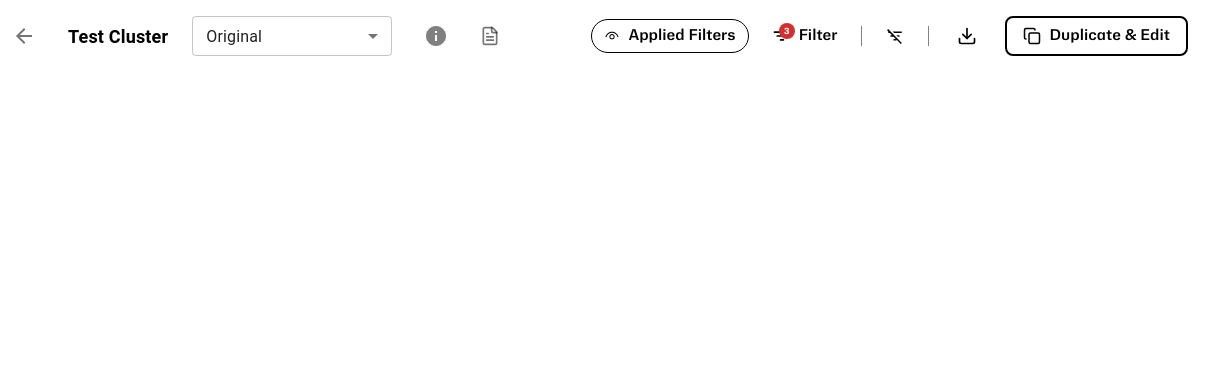
PlanogramBar › displays active filters in popper
Click the button "Applied Filters" at (670,36), box [591,19,749,53]
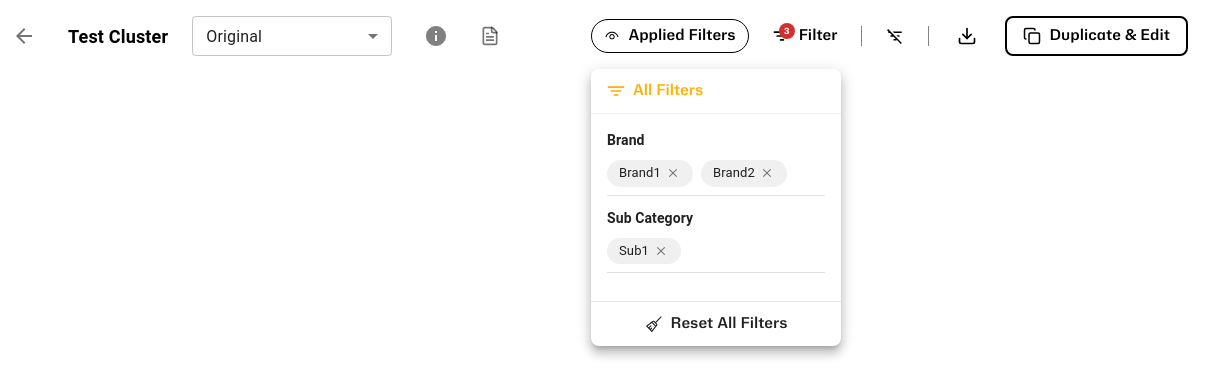
Now the heading "Brand" is shown, box [607,132,645,148]
Now the heading "Sub Category" is shown, box [607,210,693,226]
Now the text "Brand1" is shown, box [619,164,661,183]
